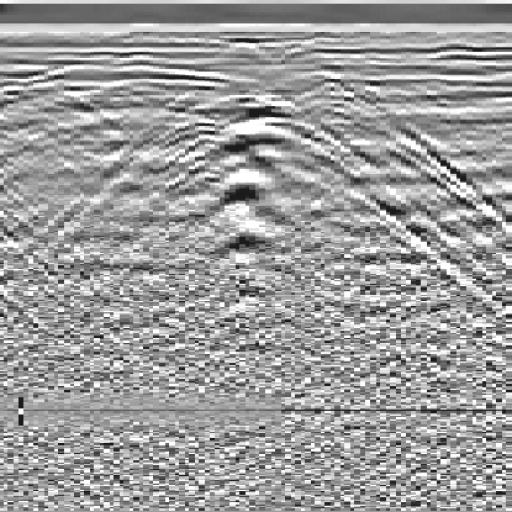metalic: (137, 68, 398, 327)
